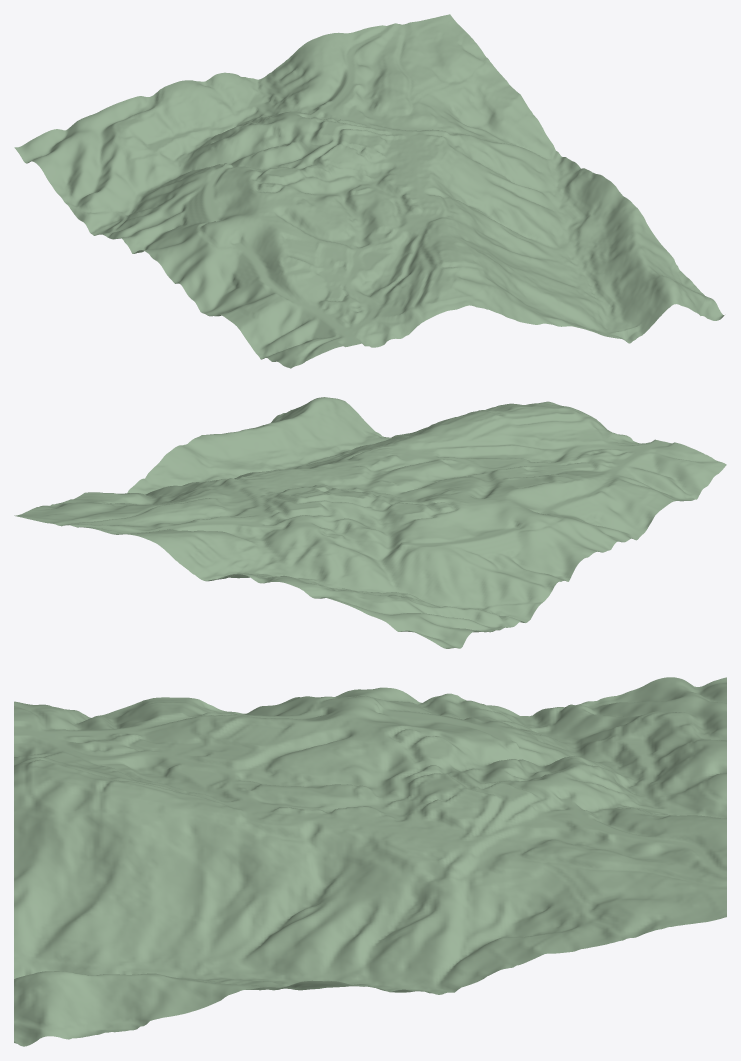
The model's file is castle.glb.
The picture shows the model from 3 angles, top to bottom: view 1: azimuth 30°, elevation 25°; view 2: azimuth 150°, elevation 25°; view 3: azimuth 270°, elevation 25°; orthographic projection. The views are drawn at different scales.
Parts seen in each view (by area): view 1: A_castle_current; view 2: A_castle_current; view 3: A_castle_current.
Boxes of the visible parts, left/top/right/bottom form: A_castle_current: left=14, top=14, right=724, bottom=368; A_castle_current: left=14, top=397, right=726, bottom=648; A_castle_current: left=14, top=677, right=726, bottom=1046.
Size of the model in its own units: 1000 by 247 by 1100.
